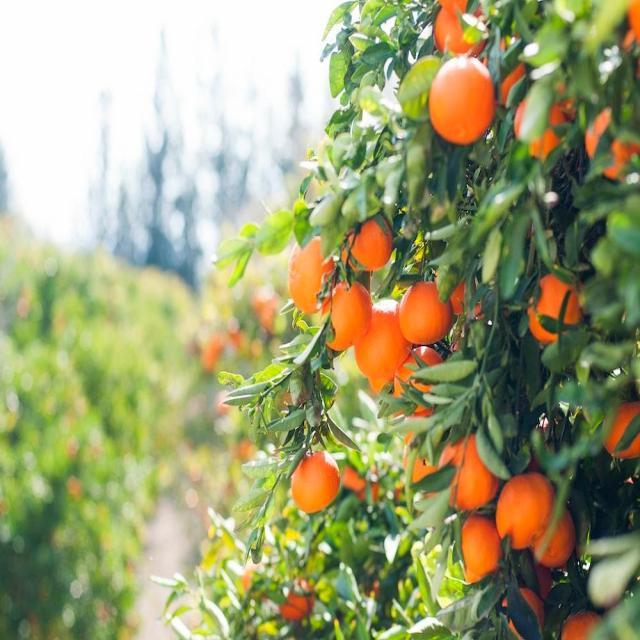Jeruk Sudah Matang: (427, 56, 497, 144), (354, 298, 412, 381), (439, 434, 502, 510), (496, 470, 560, 544), (286, 236, 336, 312), (527, 272, 581, 342), (322, 280, 374, 350), (288, 446, 342, 513), (400, 280, 456, 343), (343, 208, 394, 272), (458, 518, 503, 584), (533, 507, 577, 572), (436, 5, 491, 52), (604, 402, 640, 456), (561, 606, 602, 640)
